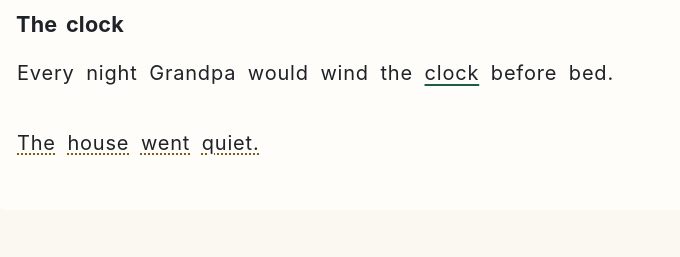
Test case: Reader › shows the original word and the reason in a tooltip when marks are on
Hover over the button "clock" at (452, 73), box [424,52,480,94]
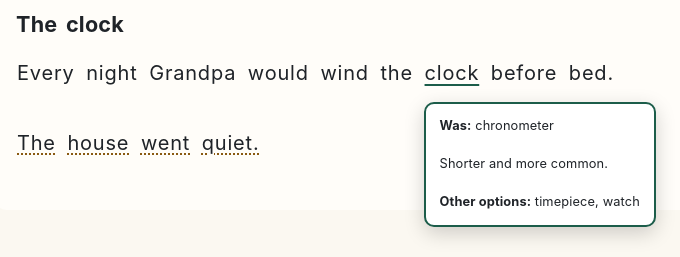
expect the tooltip shows "chronometer": met, box [475,118,554,133]
expect the tooltip shows "Shorter and more common.": met, box [440,156,608,171]
expect the tooltip shows "timepiece": met, box [535,194,640,209]
